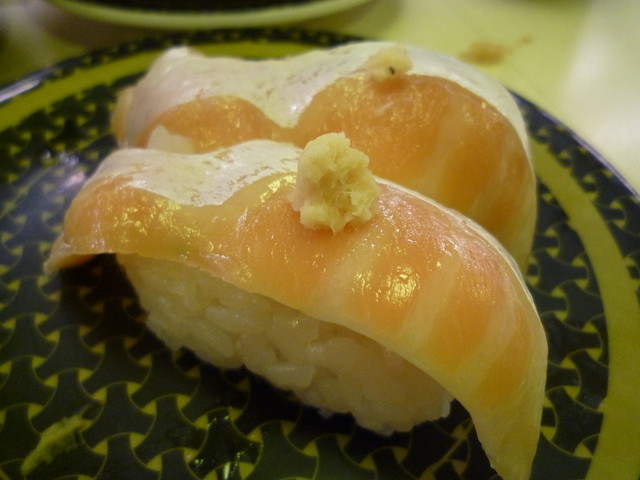salmon: (58, 153, 532, 462)
